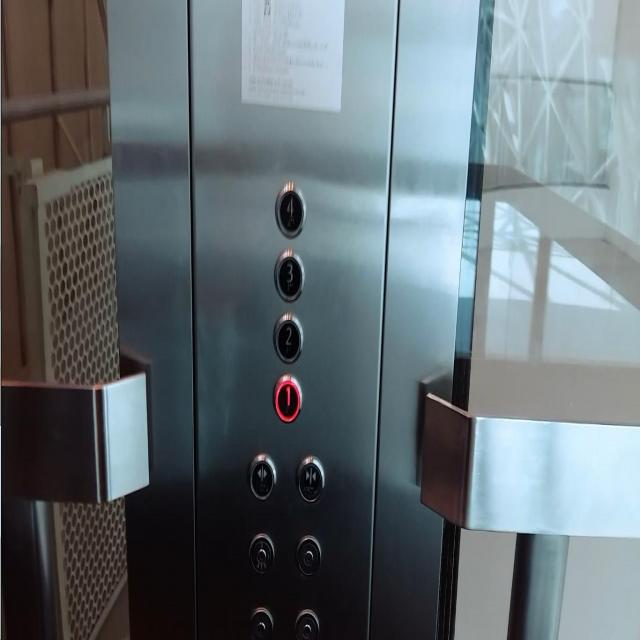1: (270, 372, 302, 424)
2: (271, 306, 304, 365)
3: (272, 245, 305, 304)
4: (274, 179, 307, 243)
close: (294, 453, 326, 505)
keyhole: (294, 530, 323, 582), (247, 528, 275, 580), (293, 607, 322, 639), (247, 607, 276, 639)
open: (246, 448, 278, 501)
